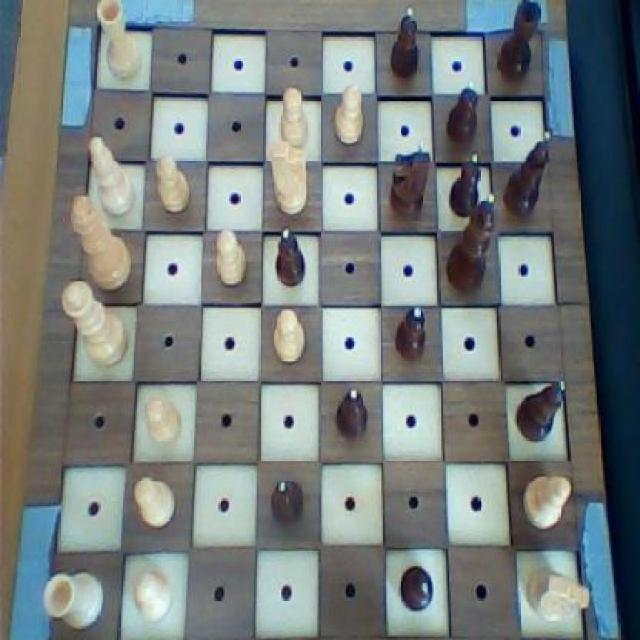bishop: (501, 124, 557, 220), (514, 372, 568, 446)
black-bishop: (443, 190, 502, 302)
black-king: (386, 134, 434, 229)
black-knight: (386, 0, 423, 85), (443, 78, 482, 147), (446, 152, 483, 224), (271, 224, 309, 294), (264, 476, 310, 532), (397, 558, 437, 618), (331, 380, 370, 440), (394, 298, 430, 362)
black-queen: (491, 0, 544, 85)
black-rook: (86, 131, 136, 219), (521, 468, 577, 535)
white-bishop: (70, 192, 136, 293)
white-king: (521, 558, 594, 630), (266, 135, 312, 221)
white-knight: (129, 472, 182, 536), (151, 148, 194, 218), (126, 562, 174, 623), (329, 74, 367, 151), (266, 306, 309, 367), (138, 396, 188, 448), (212, 224, 250, 292), (277, 80, 312, 148)
white-pawn: (55, 274, 130, 373)
white-queen: (37, 563, 108, 632), (88, 0, 146, 83)
